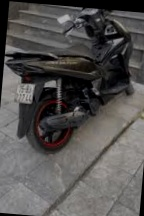Bien-so: (10, 85, 32, 106)
